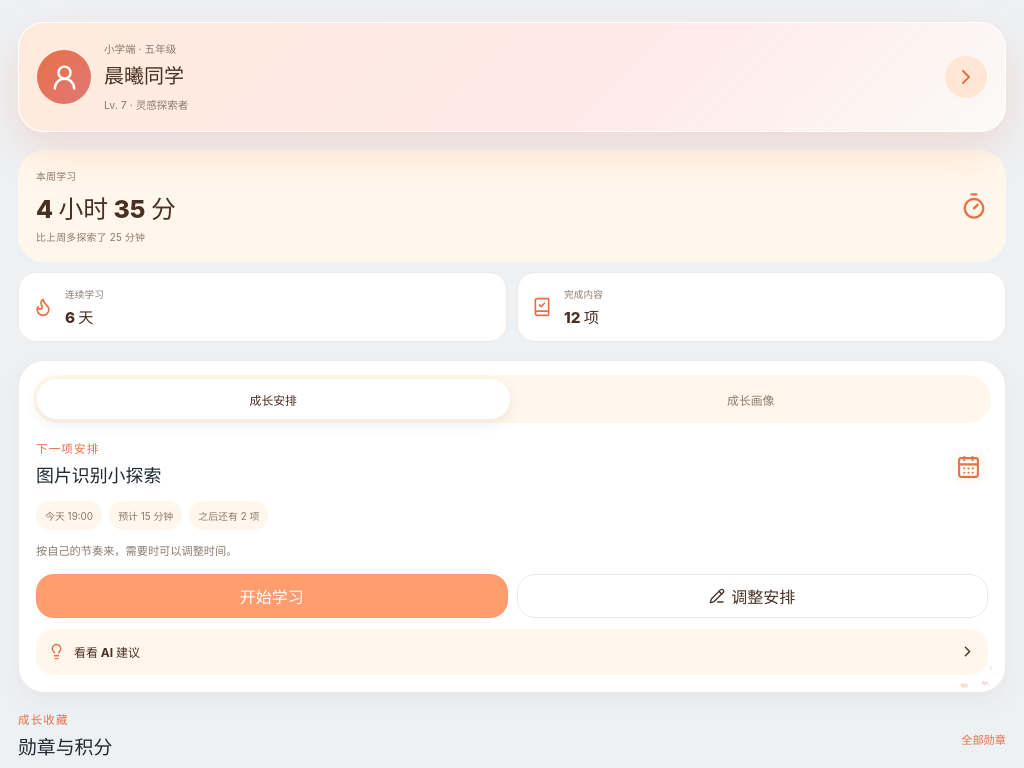
Test: profile dashboard › previews an AI schedule suggestion before applying it
Step 1. Click the button "看看 AI 建议" → (107,653), box [36,629,988,675]
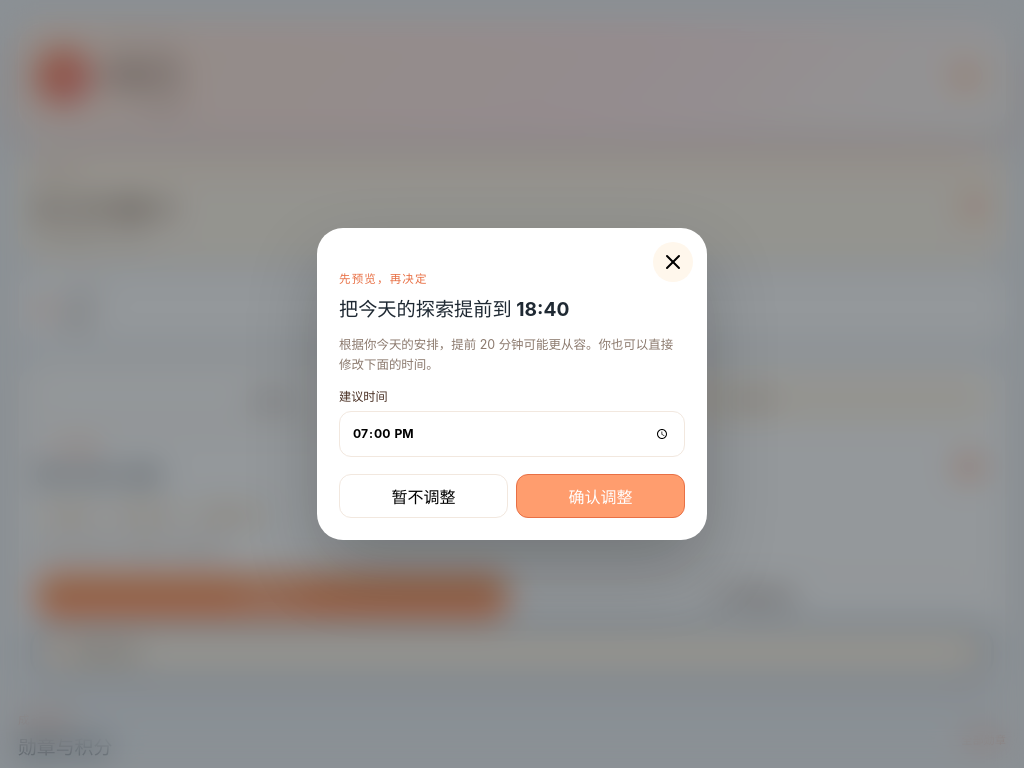
Now the dialog named "安排建议预览" is shown, box [317,228,707,540]
Now the button "确认调整" is shown, box [516,474,685,518]
